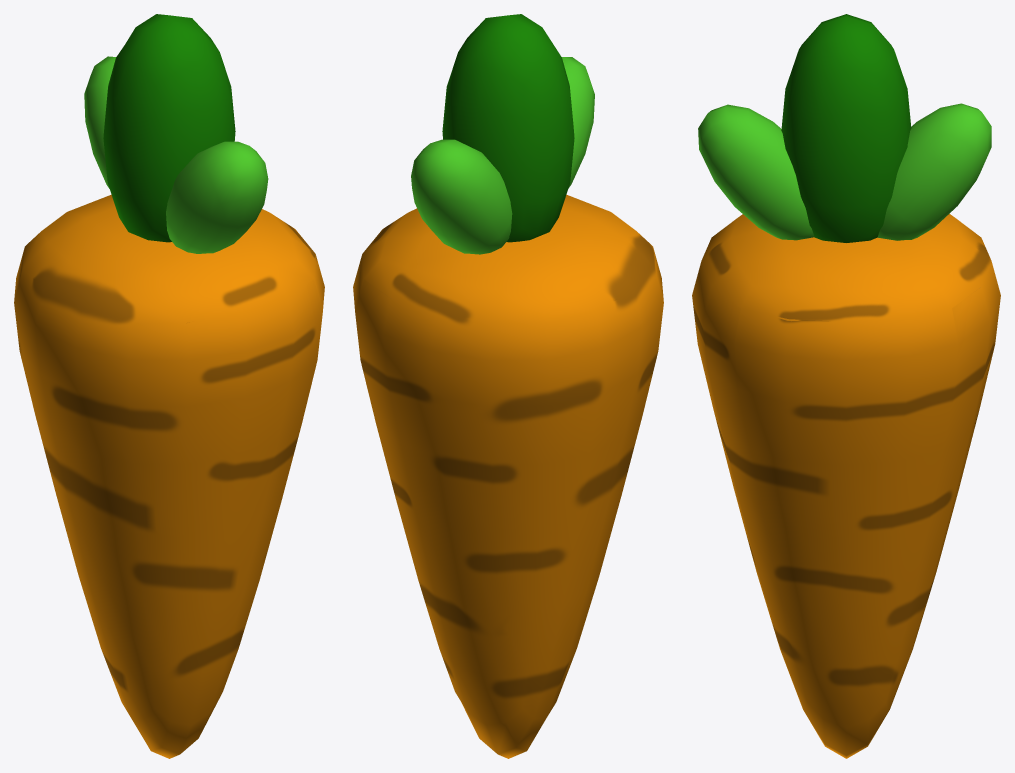
The model's file is carrot.glb.
3 renders of one model, left to right at view 1: azimuth 30°, elevation 25°; view 2: azimuth 150°, elevation 25°; view 3: azimuth 270°, elevation 25°, orthographic.
Visible parts, largest first — view 1: Zanahoria.001; view 2: Zanahoria.001; view 3: Zanahoria.001.
Boxes of the visible parts, left/top/right/bottom form: Zanahoria.001: left=14, top=14, right=324, bottom=758; Zanahoria.001: left=353, top=14, right=663, bottom=758; Zanahoria.001: left=692, top=14, right=1000, bottom=758.
Size of the model in its own units: 0.6809 by 1.8 by 0.6809.
Materials: 3 (1 with a texture image).
